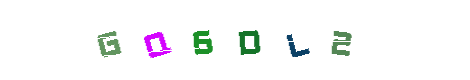2: (255, 0, 335, 80)
6: (182, 0, 262, 80)
D: (185, 0, 265, 80)
G: (116, 0, 196, 80)
L: (195, 0, 275, 80)
Q: (171, 0, 251, 80)
